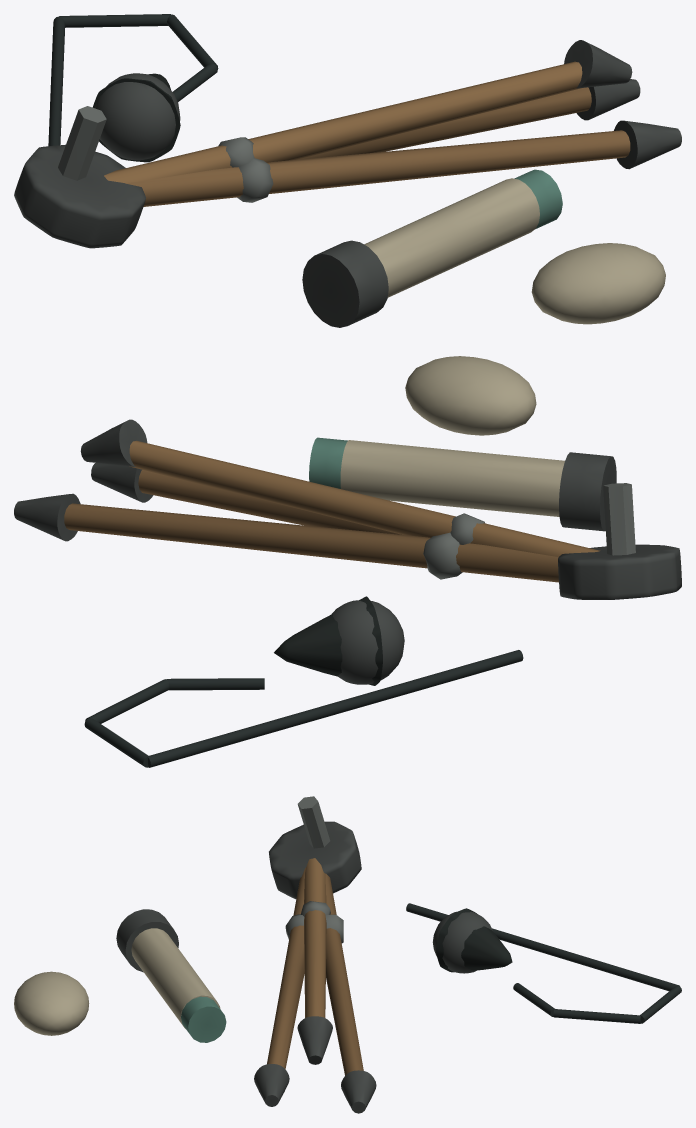
The model's file is survey_tripod_b.glb.
The picture shows the model from 3 angles, top to bottom: view 1: azimuth 30°, elevation 25°; view 2: azimuth 150°, elevation 25°; view 3: azimuth 270°, elevation 25°; orthographic projection. The views are drawn at different scales.
Visible parts, largest first — view 1: Surface; view 2: Surface; view 3: Surface.
Boxes of the visible parts, bbox=[...] form: Surface: bbox=[14, 14, 681, 327]; Surface: bbox=[14, 356, 681, 767]; Surface: bbox=[14, 796, 681, 1113].
Bounding box in the file's own units: 1.72 × 0.4202 × 2.15.
